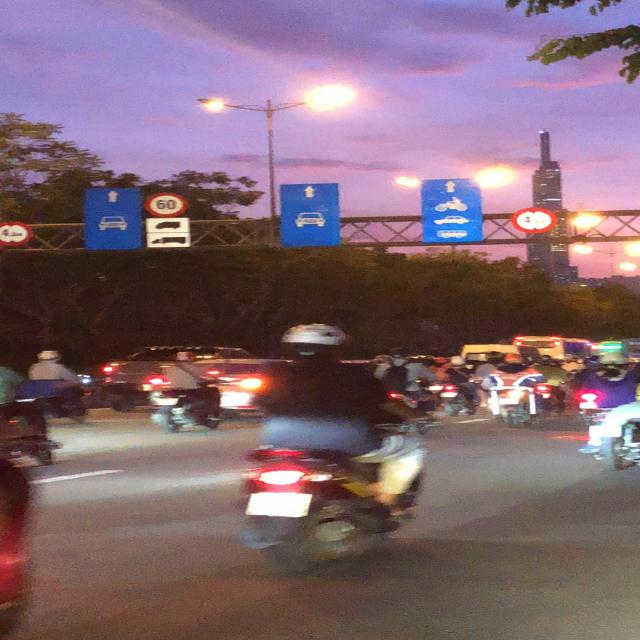Bien bao han che chieu cao: (509, 202, 557, 234), (0, 217, 36, 250)
Bien bao toc do toi da cho phep: (138, 189, 190, 219)
